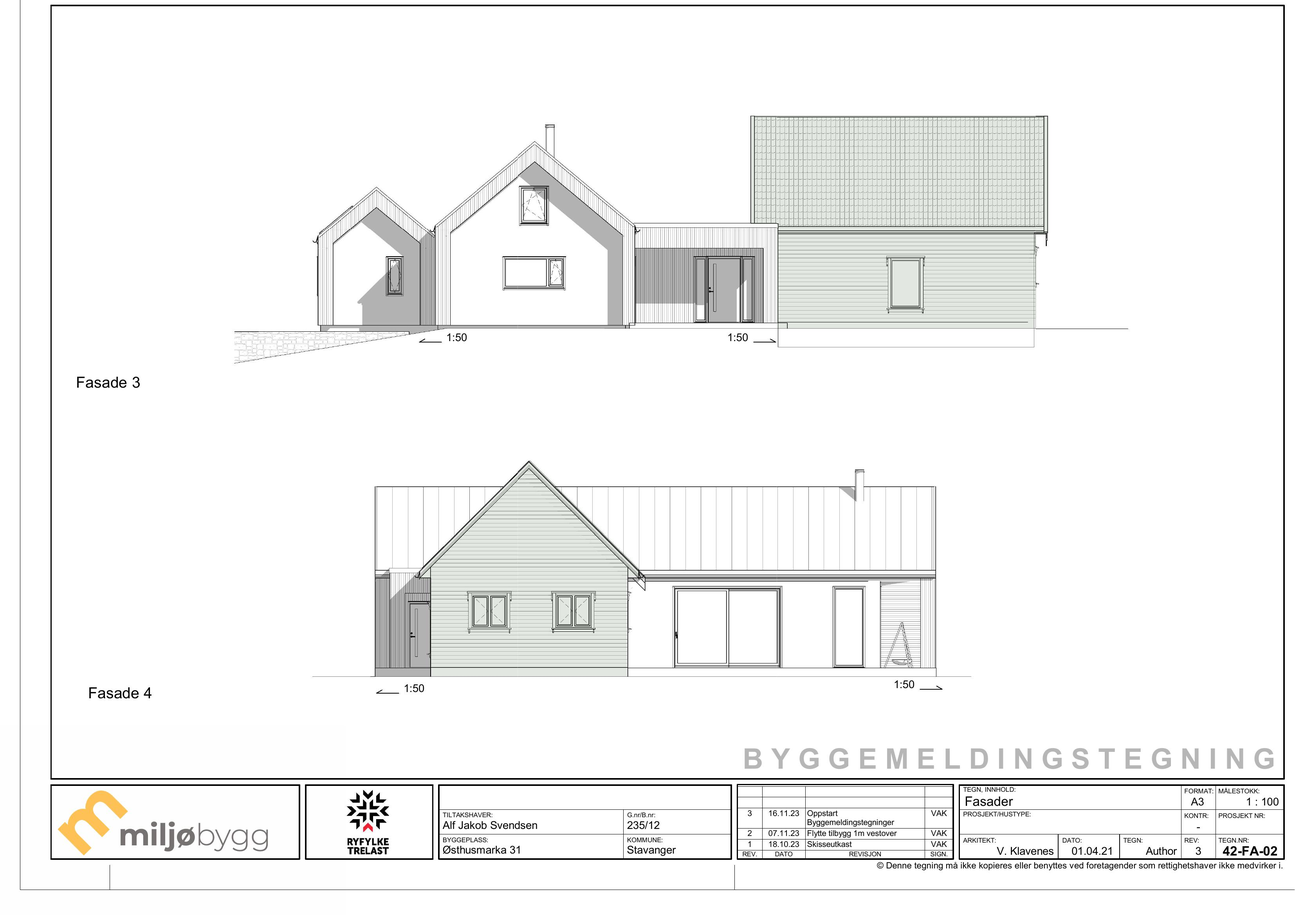fasade: (315, 114, 1049, 327), (372, 469, 937, 670)
